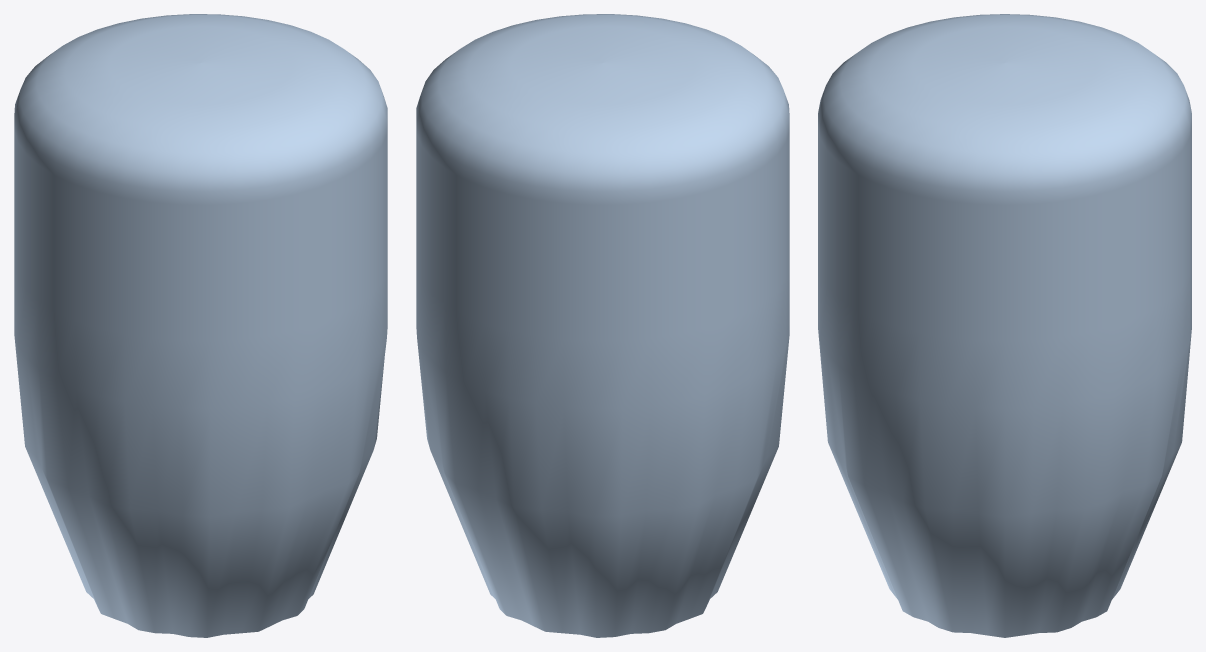
The model's file is shell_radiolarian_lens.glb.
3 renders of one model, left to right at view 1: azimuth 30°, elevation 25°; view 2: azimuth 150°, elevation 25°; view 3: azimuth 270°, elevation 25°, orthographic.
Visible parts, largest first — view 1: ShellRadiolarianLens; view 2: ShellRadiolarianLens; view 3: ShellRadiolarianLens.
Part boxes in pixels (<box>): ShellRadiolarianLens: <box>14,14,387,637</box>; ShellRadiolarianLens: <box>416,14,789,637</box>; ShellRadiolarianLens: <box>818,14,1191,637</box>.
Size of the model in its own units: 1.5 by 2.48 by 1.5.
